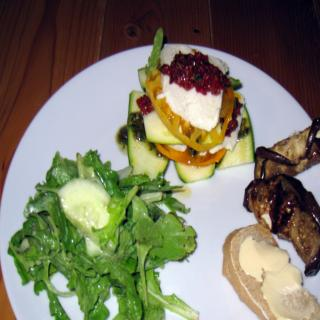Cheese: (159, 43, 227, 132), (260, 263, 318, 320), (197, 90, 245, 154), (238, 235, 292, 280)
